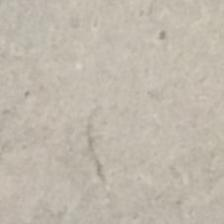Non_Crack: (9, 2, 215, 222)
